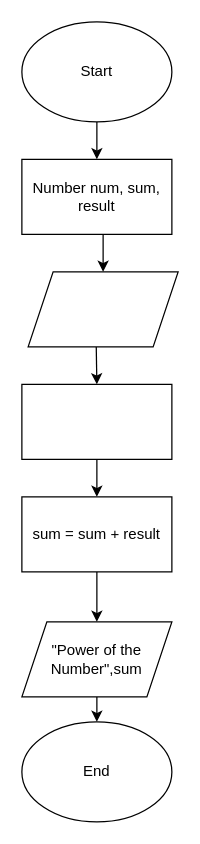
Some shapes in this 200 by 844 pixel diagram are drawn without their labels. Here are the shapes that lost their labels. From the top down, the centre of each, then its label:
[102,309]: "Input a number", num
[96,421]: result = num * num
